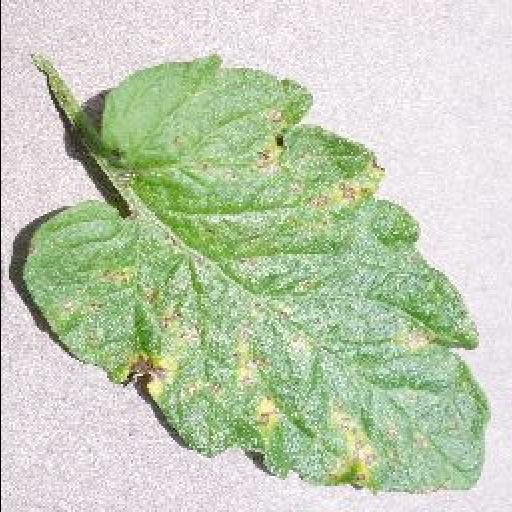disease_tomato: (22, 56, 488, 490)
